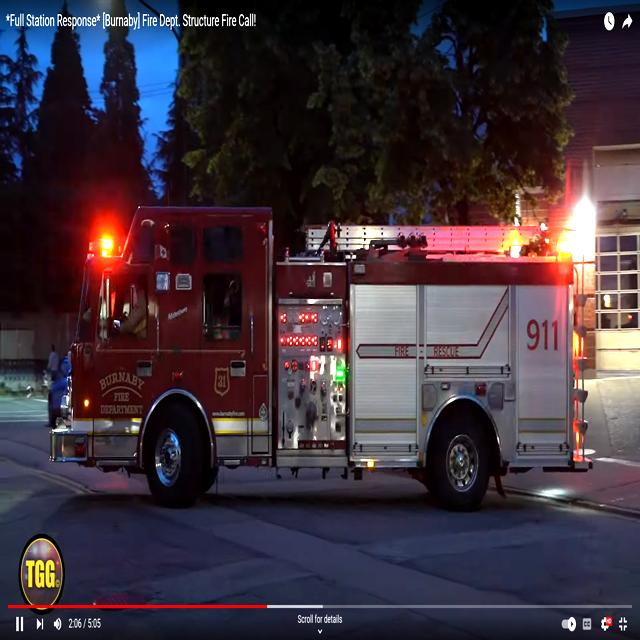emergency-vehicles: (39, 180, 595, 528)
